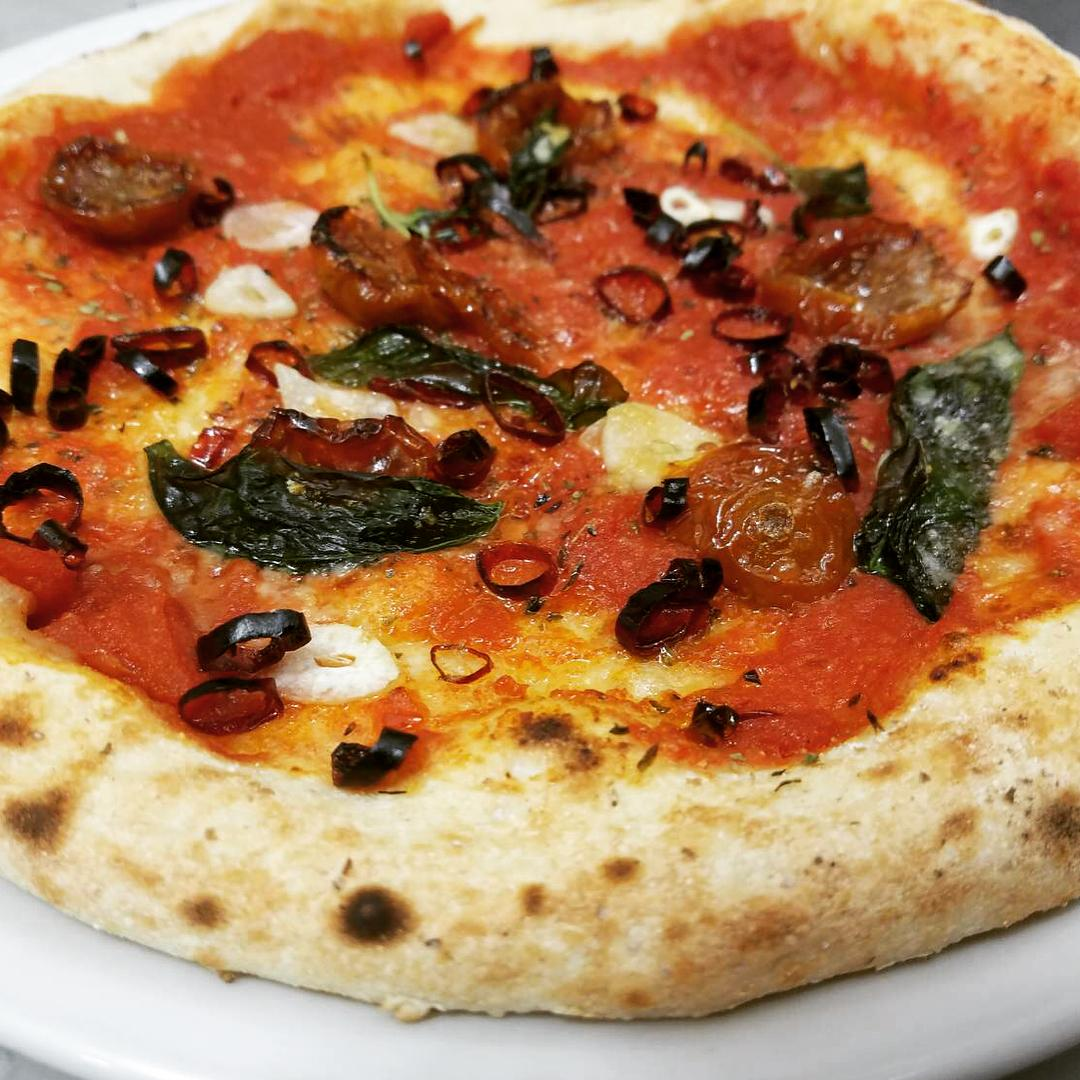Basil: (143, 434, 504, 594), (870, 328, 1032, 642), (313, 328, 626, 448), (418, 133, 605, 250), (752, 138, 882, 215)
Pizza: (0, 0, 1080, 1020)
Tomatoes: (657, 437, 864, 607), (761, 208, 976, 362), (304, 198, 477, 327), (469, 70, 624, 175), (37, 142, 199, 233)
